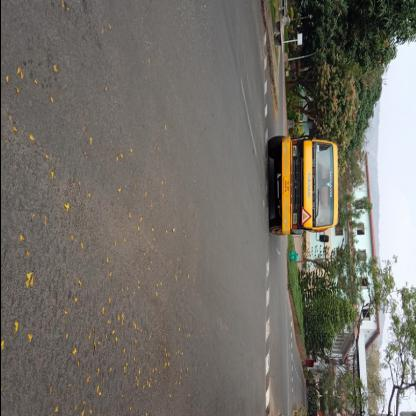speed-bumps: (256, 240, 280, 416), (257, 18, 277, 146), (281, 314, 304, 415)
